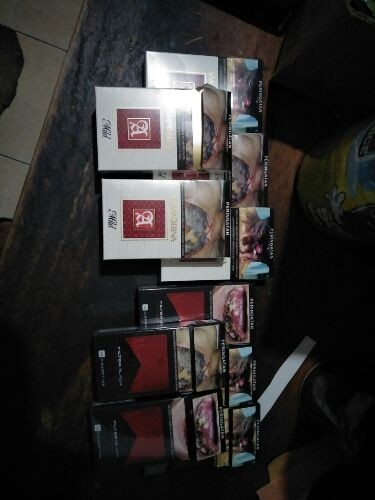A Mild: (95, 87, 231, 172), (101, 178, 231, 260)
